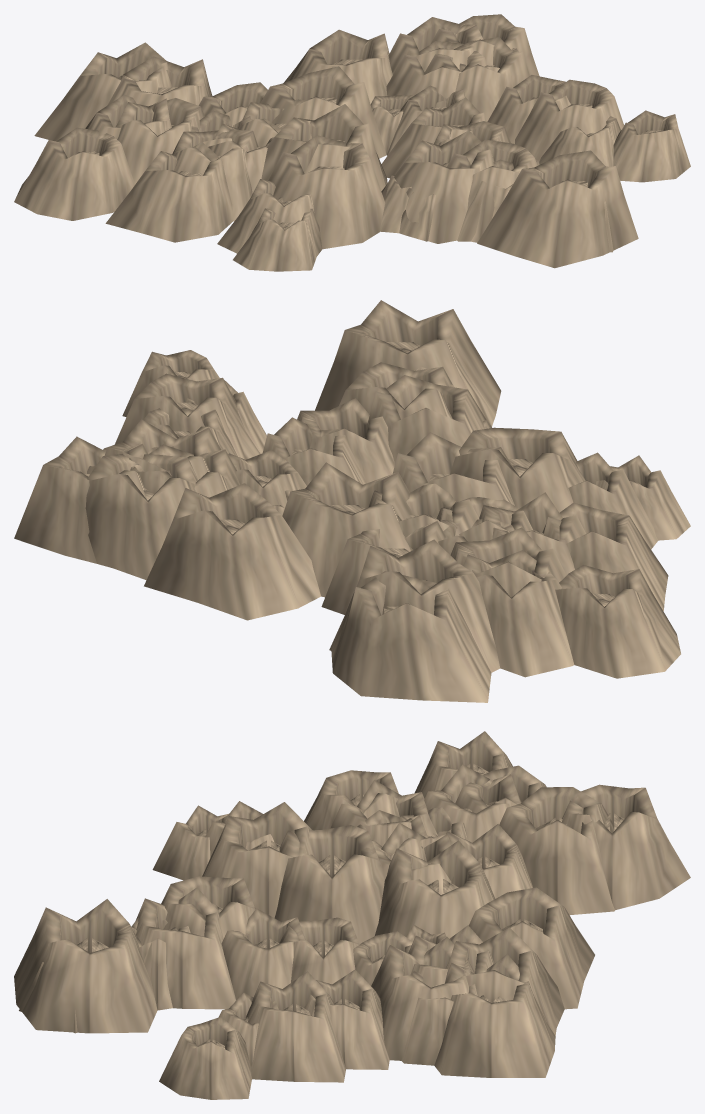
The model's file is barnacles-100.glb.
3 renders of one model, top to bottom at view 1: azimuth 30°, elevation 25°; view 2: azimuth 150°, elevation 25°; view 3: azimuth 270°, elevation 25°, orthographic. The views are drawn at different scales.
Parts seen in each view (by area): view 1: LOD0; view 2: LOD0; view 3: LOD0.
Part boxes in pixels (x1,y1,x2,y2): LOD0: [14, 14, 690, 271]; LOD0: [14, 300, 690, 702]; LOD0: [14, 731, 690, 1099].
Size of what is drawn, in the model's own units: 0.5244 by 0.0653 by 0.471.
1 material, 1 textured.
